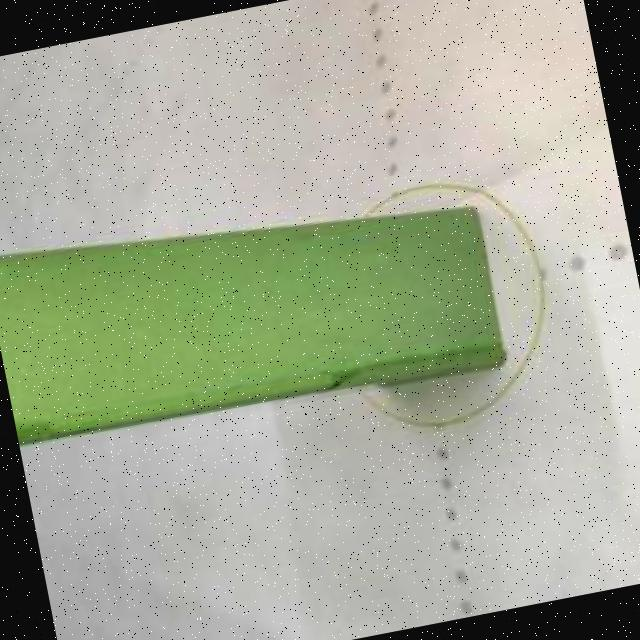greenbox: (0, 161, 513, 453)
